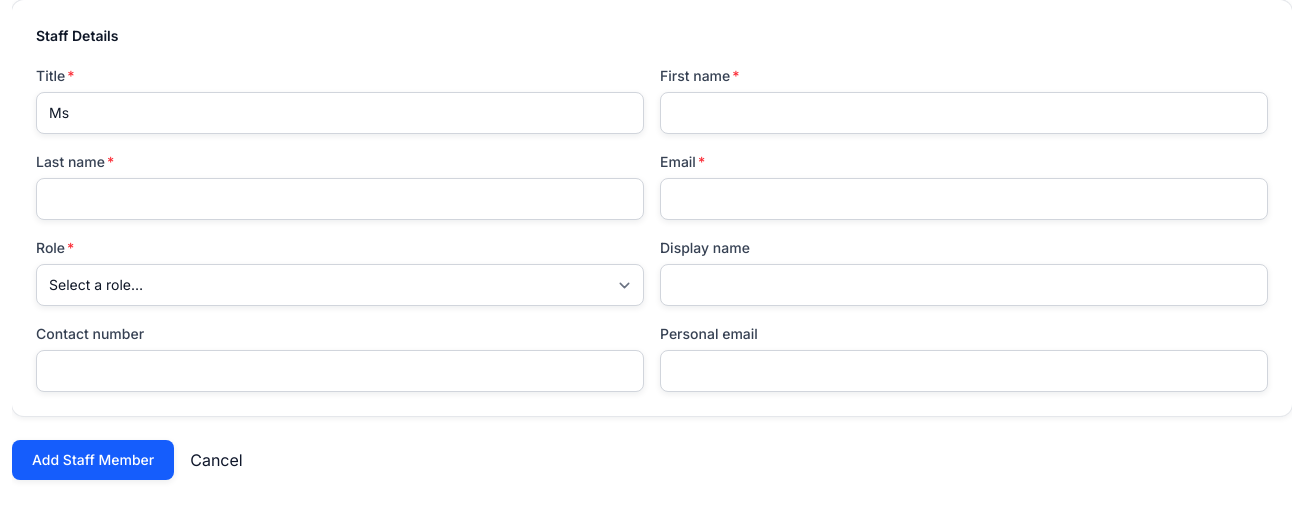
Scenario: StaffForm › describes the role once one is picked
The image size is (1292, 519).
Select "Teacher" in the dropdown labelled "Role*". click: (340, 285)
box: x1=36 y1=264 x2=644 y2=306
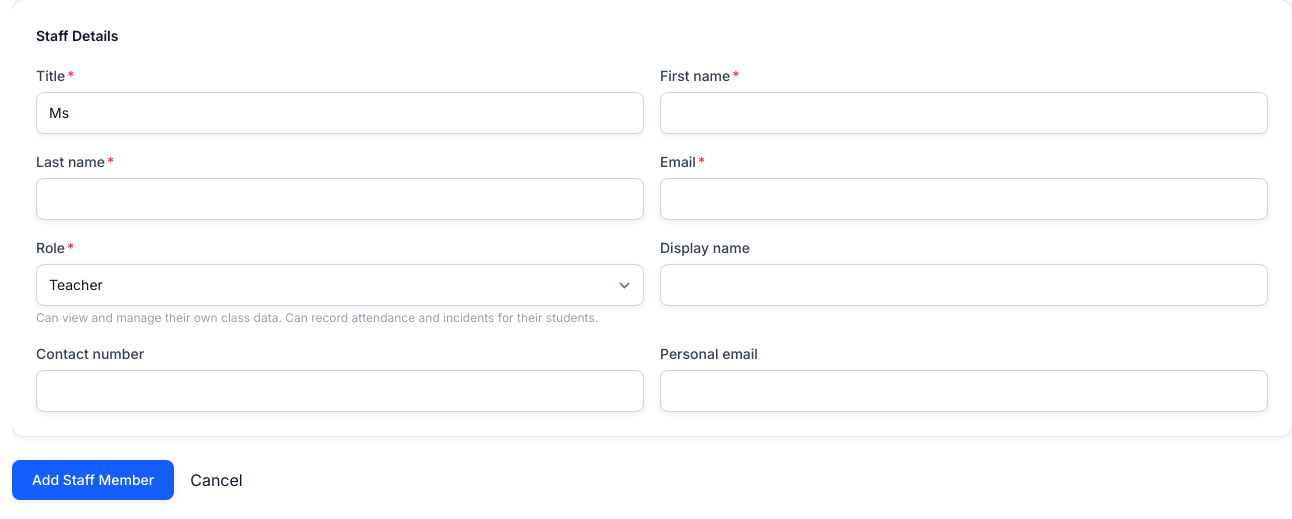
Expected: the text "Can view and manage their own class data. Can record attendance and incidents for their students." is shown, x1=36 y1=310 x2=598 y2=325
